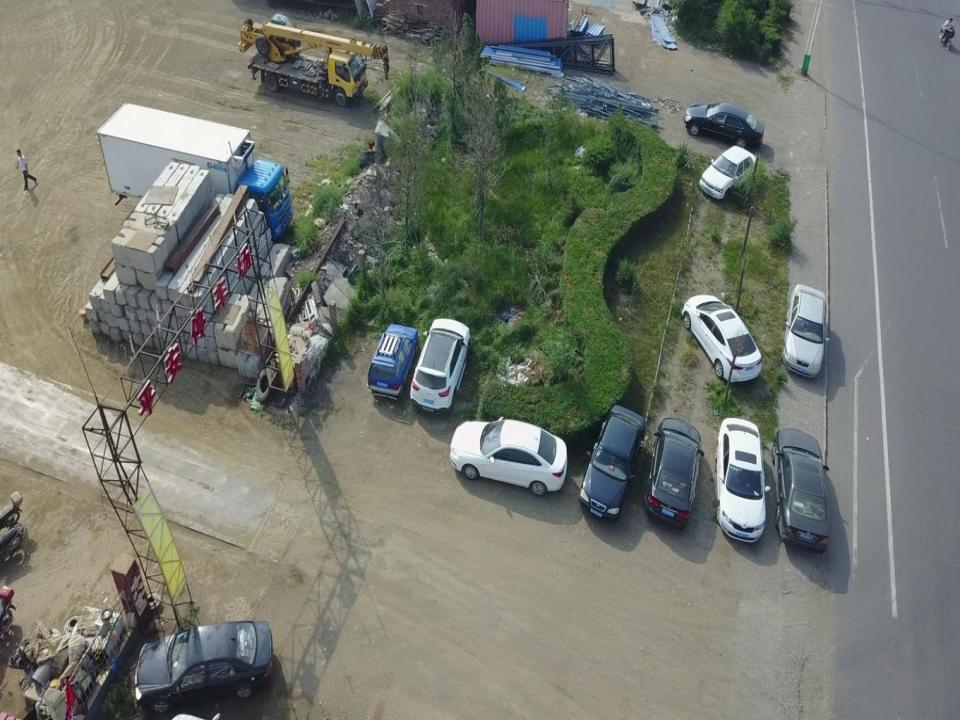car: (128, 614, 288, 714), (447, 413, 569, 499), (769, 417, 835, 551), (575, 399, 643, 520), (678, 289, 764, 384), (406, 303, 472, 420), (712, 410, 768, 546), (649, 409, 703, 530), (364, 310, 422, 410), (781, 275, 829, 379), (681, 91, 767, 145), (699, 142, 757, 204)
truck: (88, 99, 295, 233), (235, 8, 393, 106)
